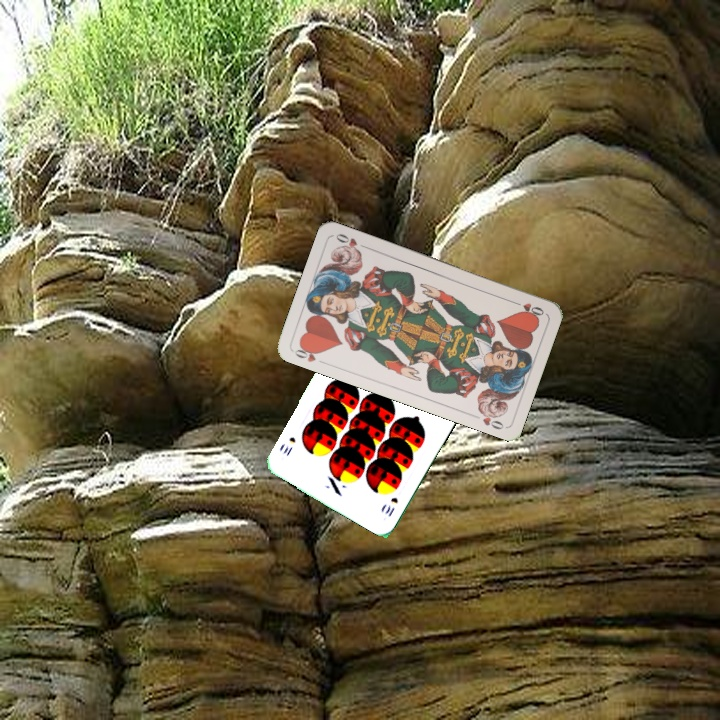HO: (508, 296, 547, 318), (290, 341, 324, 365)
S10: (381, 493, 401, 519)
